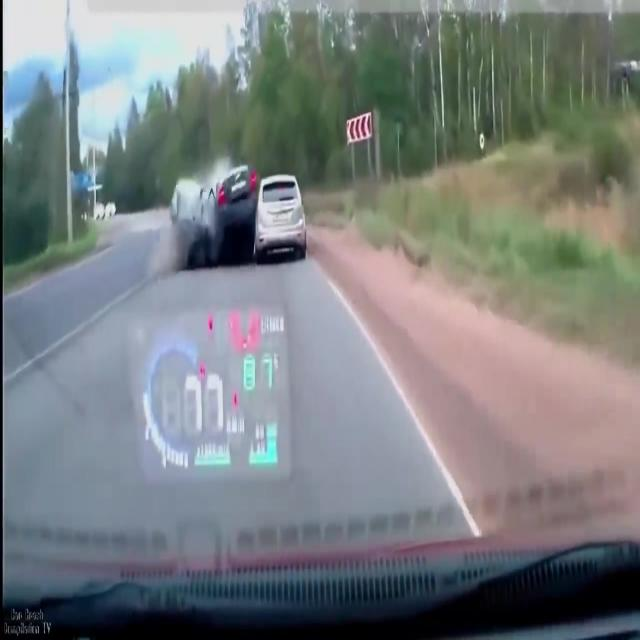accident: (156, 152, 254, 275)
